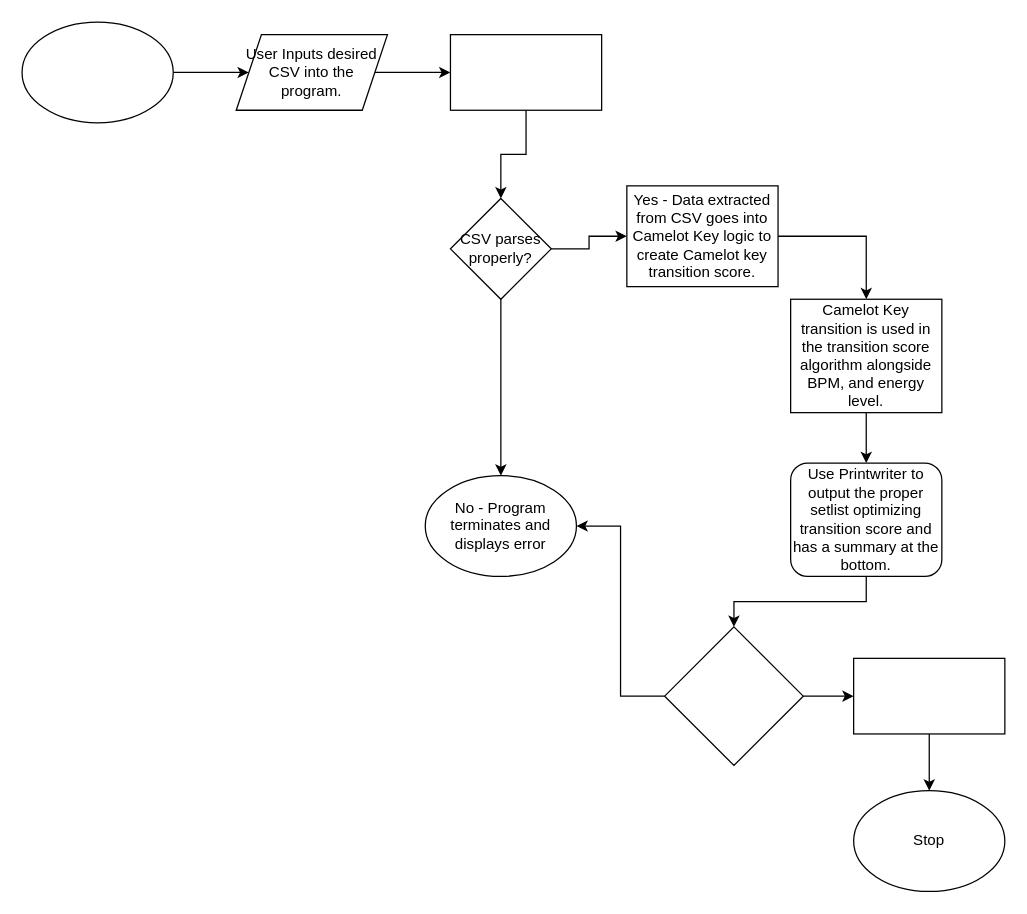
This 1027x914 diagram has some shape labels left out. The centre of each missing label's shape, as x and y in pixels:
"Printwriter creates a txt file properly?" belongs at [733,695].
"Program parses the CSV and extracts the BPM, Key, Energy Level, etc." belongs at [525,71].
"Start" belongs at [97,72].
"Yes - return the txt file of setlist and summary to the user." belongs at [928,695].
